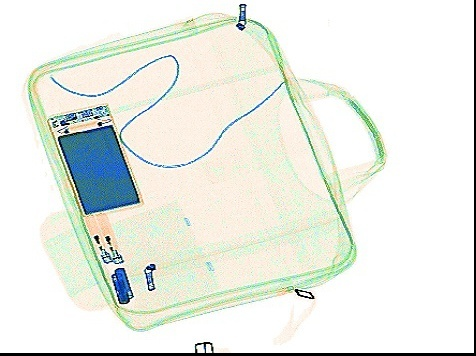lighter: (84, 211, 115, 265), (95, 211, 124, 264)
